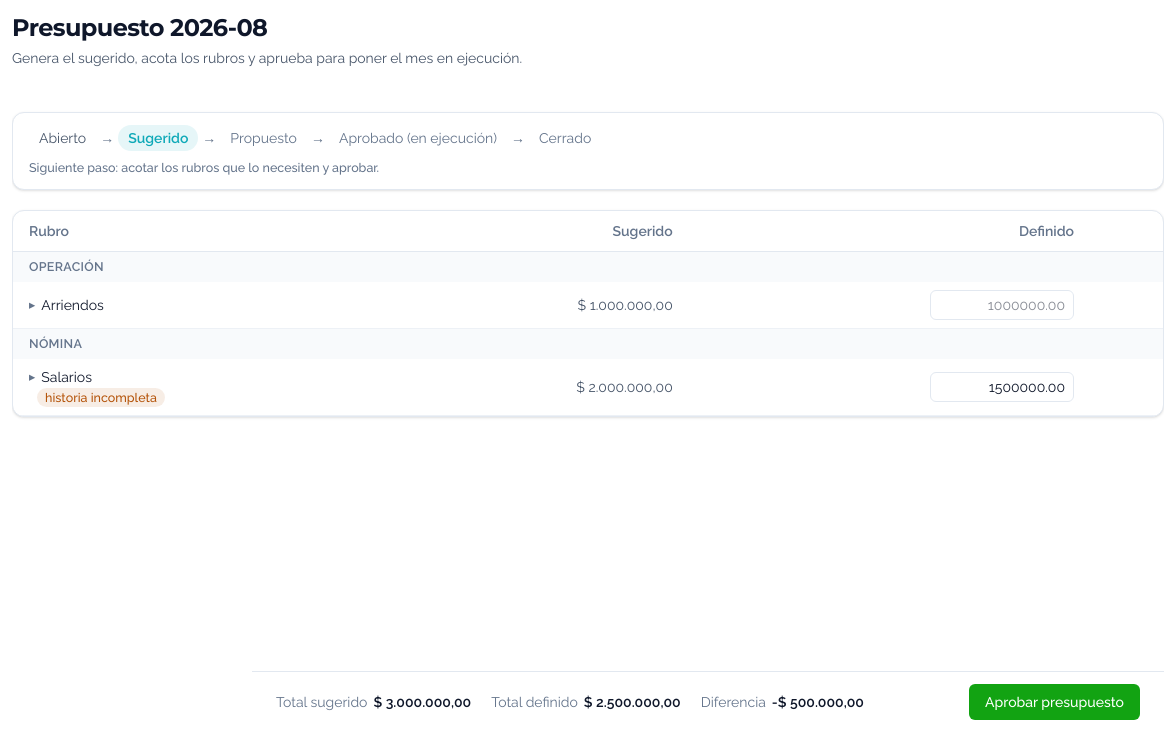
Test: PresupuestoMesPage — acotar (§5.3) › un 409 del backend se muestra en lenguaje llano
This screenshot has width=1164, height=732.
Step 1. Type "1200000" into the field named "Definido Arriendos" → (1002, 305), box [930,290,1074,320]
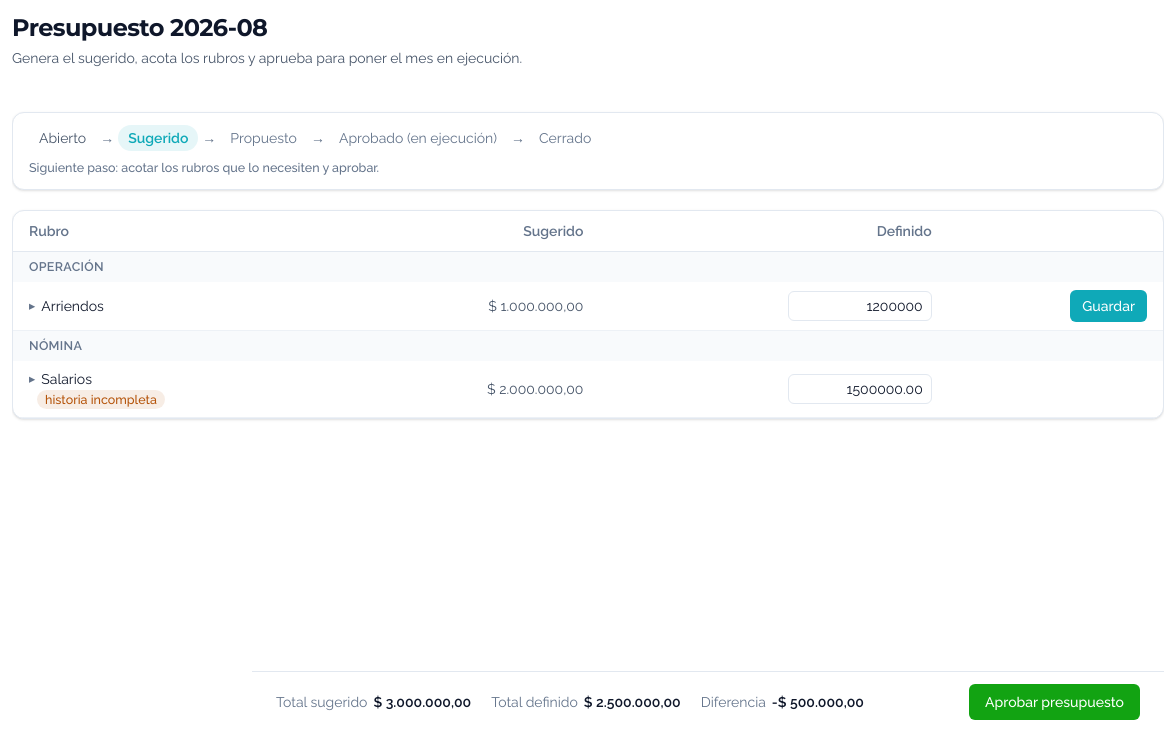
Step 2. Click the button "Guardar" → (1109, 306), box [1070,290,1147,322]
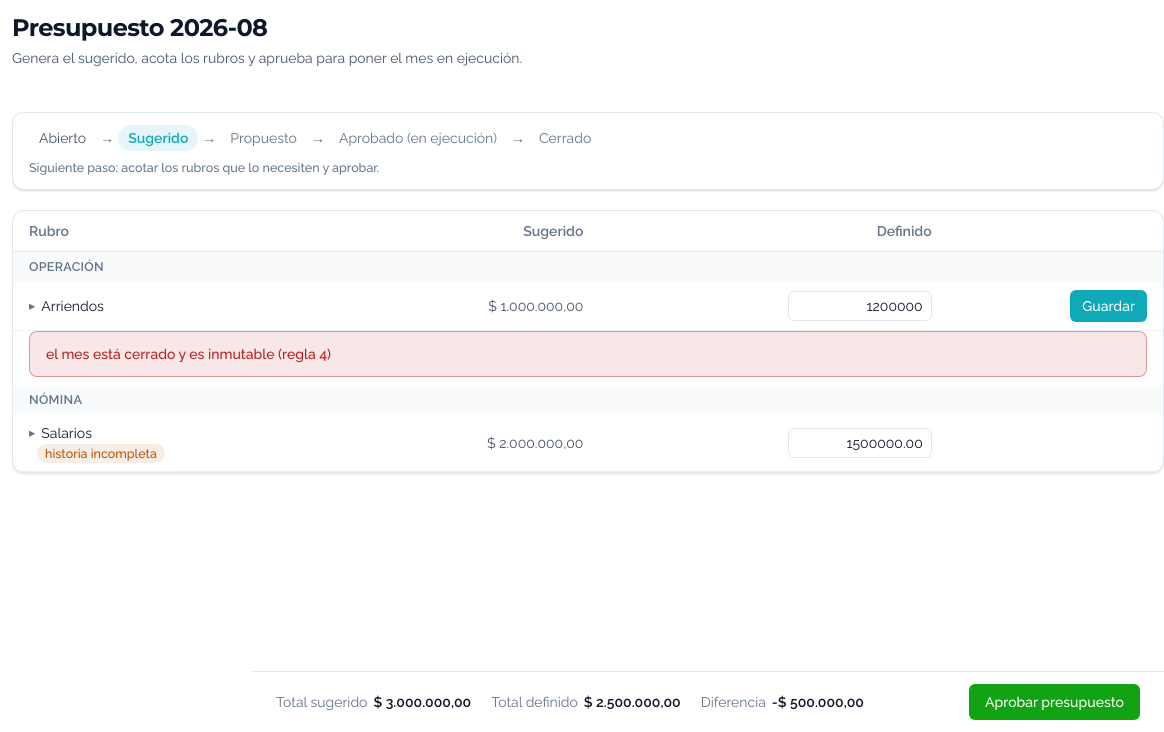
Check: the text "el mes está cerrado y es inmutable (regla 4)" is shown, box [29,331,1147,377]
